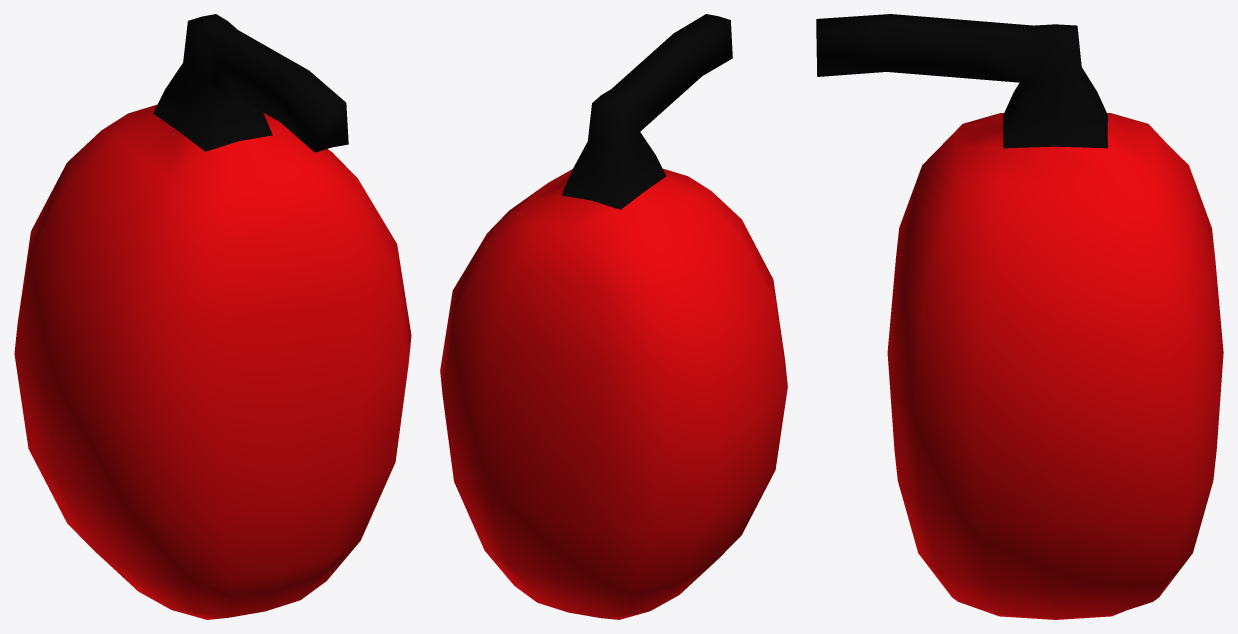
File: Lamp.fbx
3 renders of one model, left to right at view 1: azimuth 30°, elevation 25°; view 2: azimuth 150°, elevation 25°; view 3: azimuth 270°, elevation 25°, orthographic. The views are drawn at different scales.
Visible parts, largest first — view 1: Cube; view 2: Cube; view 3: Cube.
Boxes of the visible parts, x1,y1,x2,y2 form: Cube: [14, 14, 411, 619]; Cube: [440, 14, 787, 619]; Cube: [816, 14, 1223, 619].
Bounding box in the file's own units: 37.43 × 62.02 × 39.07.
